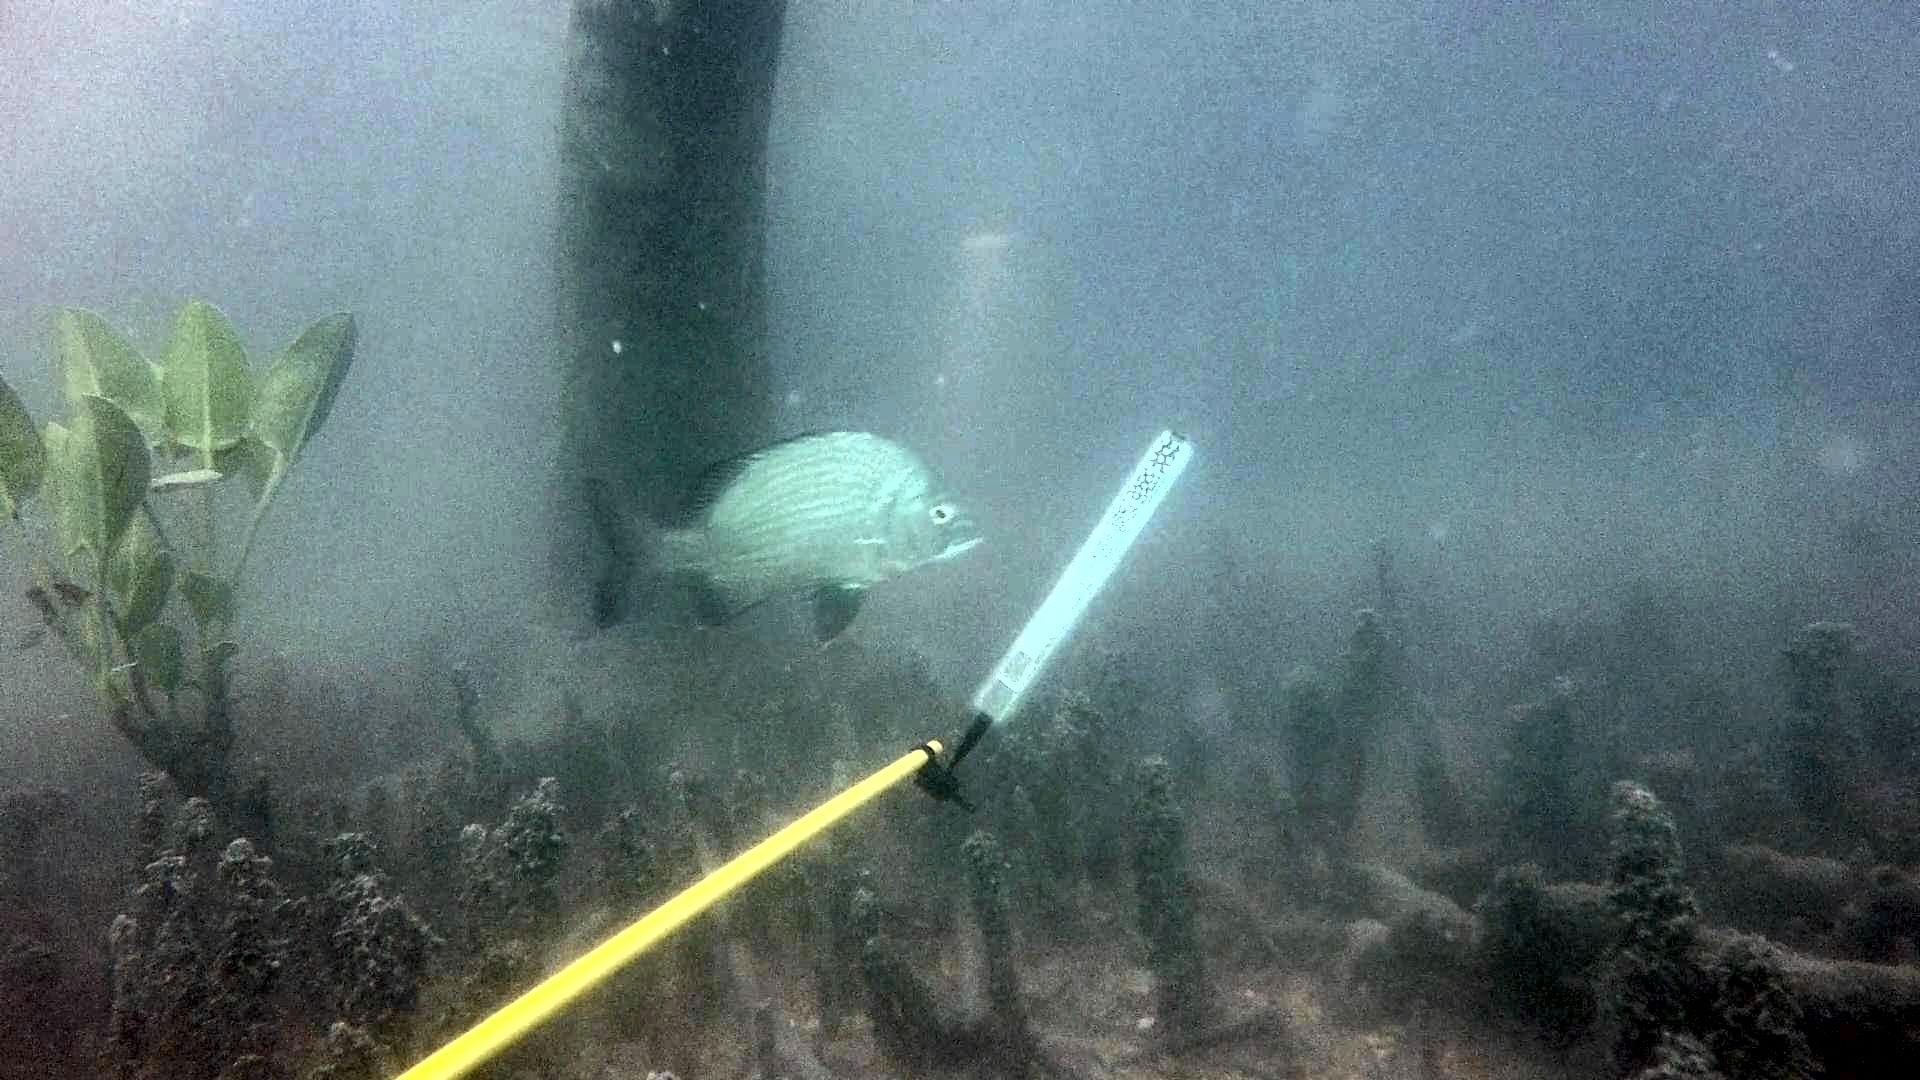acanthopagrus palmaris: (574, 410, 1001, 661)
